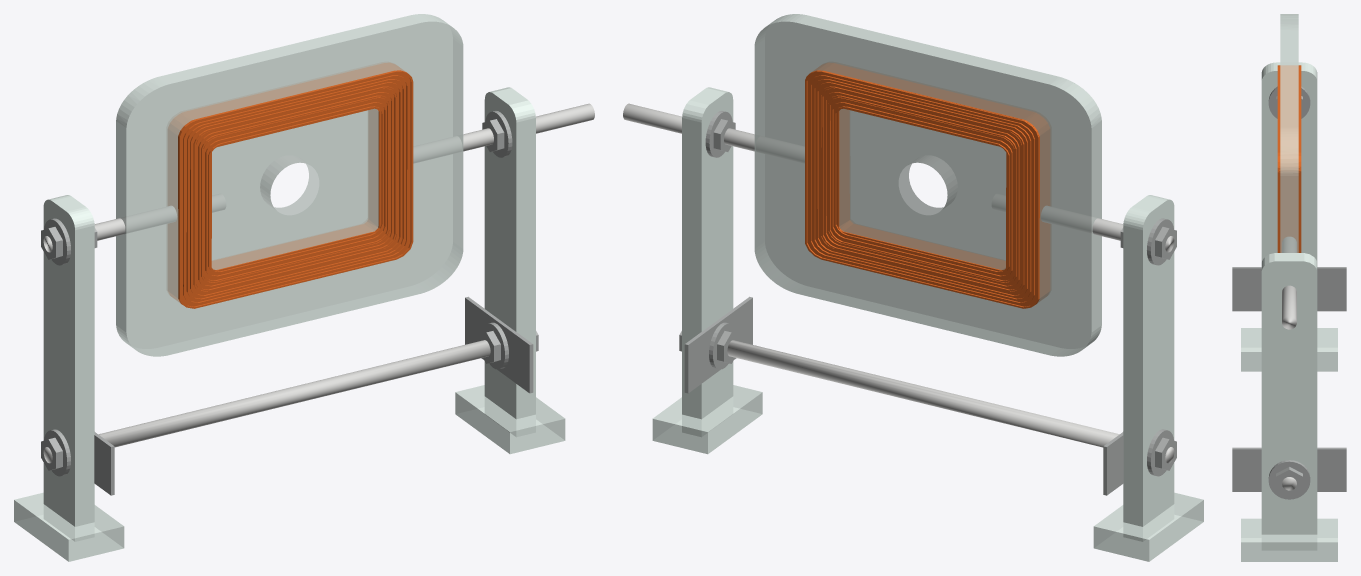
Rendered from coil.glb.
3 views of the same model, side by side, from view 1: azimuth 30°, elevation 25°; view 2: azimuth 150°, elevation 25°; view 3: azimuth 270°, elevation 25° (orthographic). The views are drawn at different scales.
Parts seen in each view (by area): view 1: frame.017, stand, axis, handle; view 2: frame.017, stand, axis, handle; view 3: stand, frame.017, handle, axis.
Boxes of the visible parts, x1,y1,x2,y2 form: frame.017: (116, 14, 463, 356); stand: (14, 87, 565, 561); axis: (43, 128, 493, 252); handle: (536, 103, 594, 133); frame.017: (754, 14, 1101, 356); stand: (652, 87, 1203, 561); axis: (724, 128, 1174, 252); handle: (623, 103, 681, 133); stand: (1232, 62, 1346, 561); frame.017: (1277, 14, 1301, 252); handle: (1282, 285, 1296, 329); axis: (1282, 237, 1296, 252).
Size of the model in its own units: 62.59 by 46.98 by 12.79.
